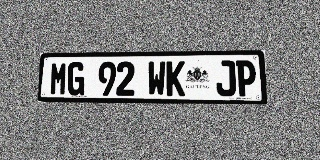2: (116, 61, 135, 96)
9: (98, 62, 116, 96)
G: (67, 62, 85, 96)
J: (216, 60, 236, 96)
K: (166, 61, 185, 96)
M: (49, 62, 68, 95)
P: (236, 60, 256, 96)
W: (147, 61, 166, 96)
